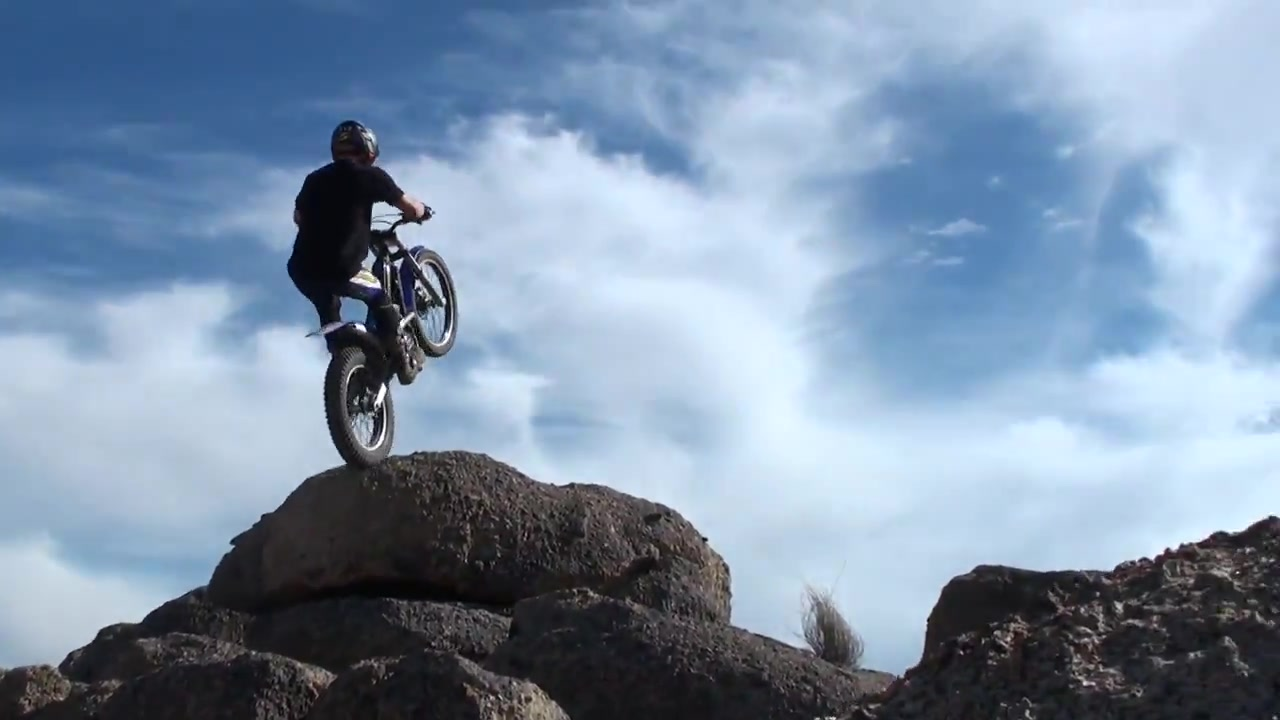motorbike: (307, 202, 458, 469)
